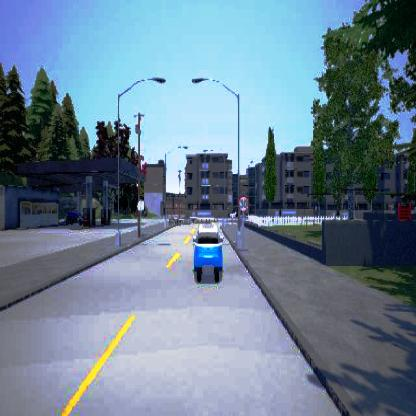vehicle: (192, 222, 226, 282)
